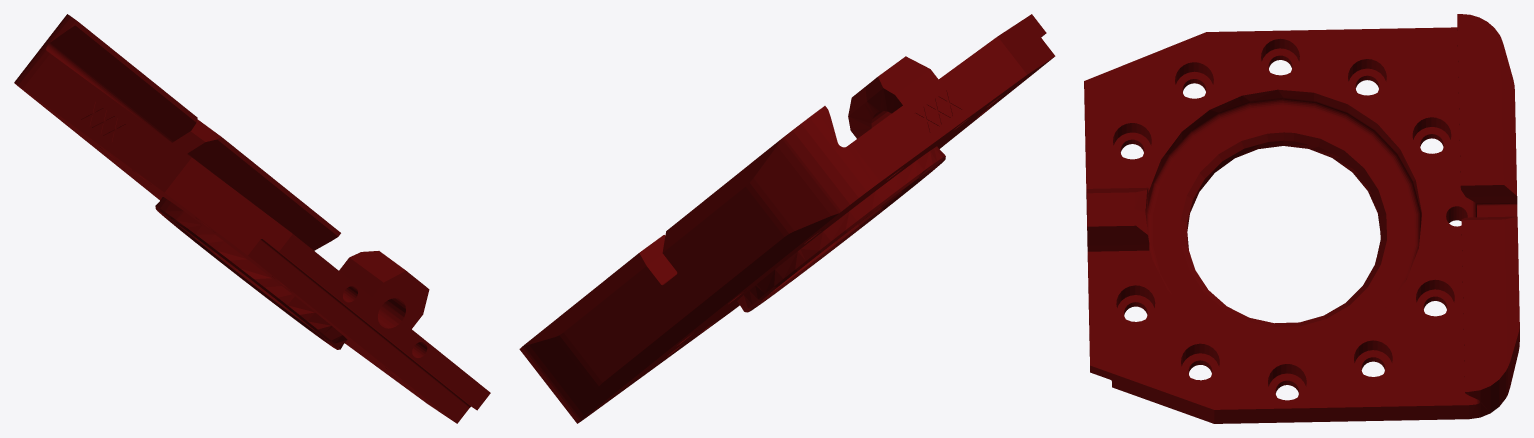
File: _2_30D_355619_________0301_________K00_11_59D_323327_001_SWV_01__2_30D_355619_________0301_________K00_11_59D_323327_001_SWV.obj
3 views of the same model, side by side, from view 1: azimuth 30°, elevation 25°; view 2: azimuth 150°, elevation 25°; view 3: azimuth 270°, elevation 25° (orthographic). The views are drawn at different scales.
Size of the model in its own units: 0.1577 by 0.1593 by 0.2015.
